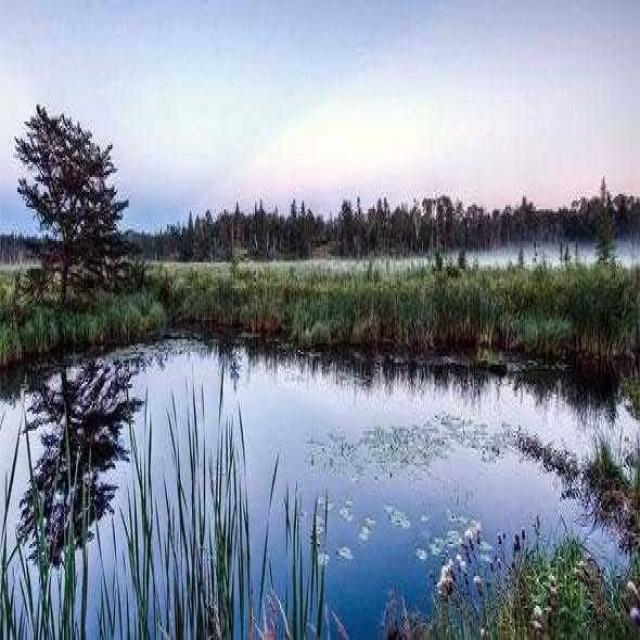Ponds: (3, 323, 638, 636)
